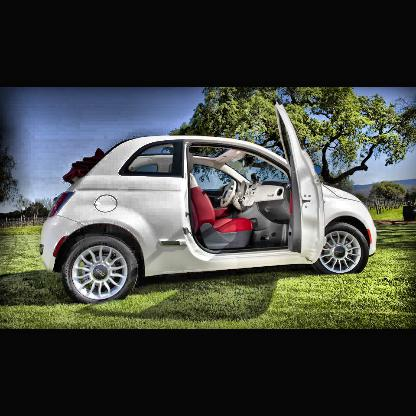FIAT 500 Convertible 2012: (40, 105, 377, 305)
